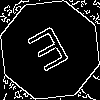E: (25, 25, 76, 81)
